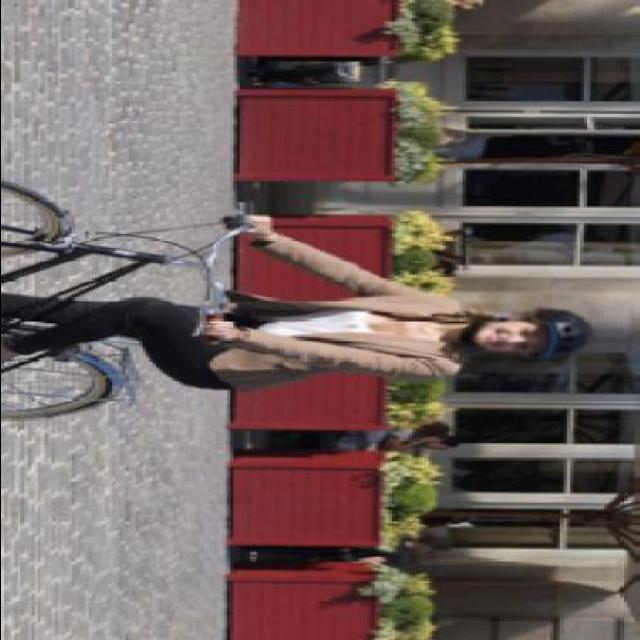With Helmet: (468, 305, 600, 365)
